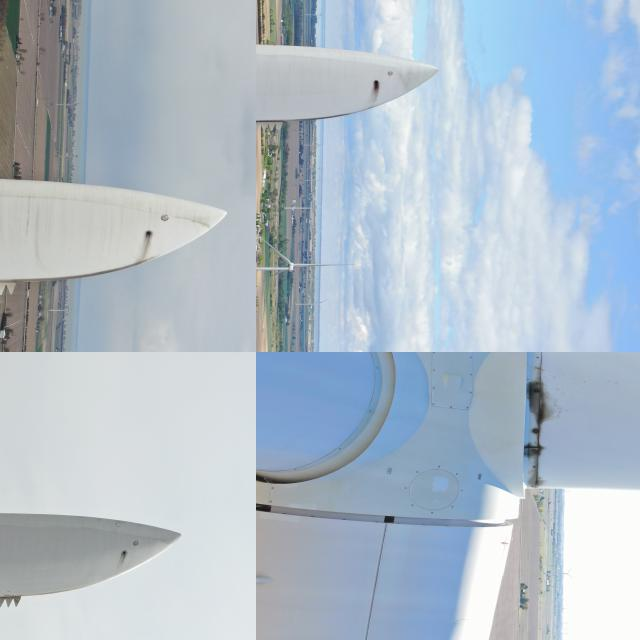damage: (514, 376, 578, 430), (515, 438, 562, 491), (369, 78, 384, 98), (143, 229, 155, 236), (120, 550, 130, 556)
